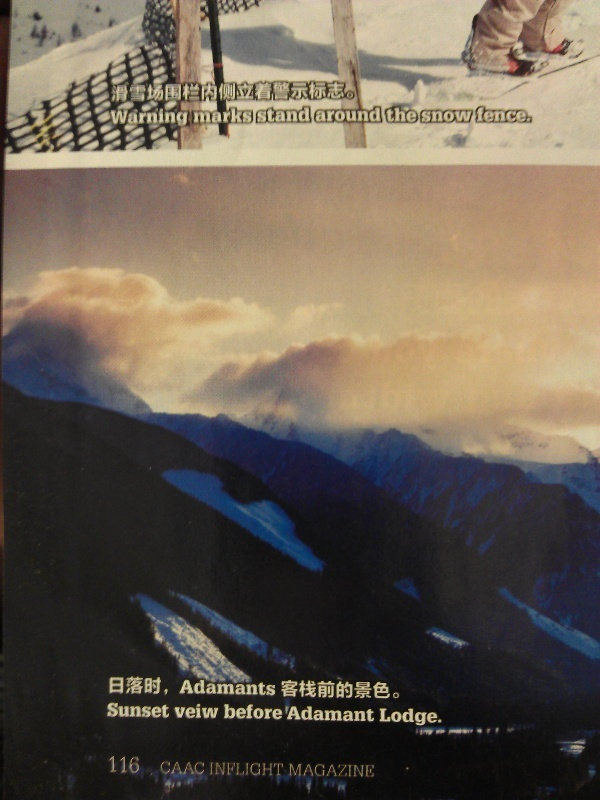text: (113, 78, 128, 106), (129, 78, 144, 106), (145, 78, 160, 106), (161, 78, 176, 106), (177, 78, 192, 106), (193, 78, 208, 106), (209, 78, 224, 106), (225, 78, 240, 106), (241, 78, 256, 106), (257, 78, 272, 106), (273, 78, 288, 106), (289, 78, 304, 106), (305, 78, 320, 106), (321, 78, 336, 106), (337, 78, 352, 106), (385, 676, 401, 700), (113, 676, 128, 700), (129, 676, 144, 700), (145, 676, 160, 700), (161, 676, 176, 700), (177, 676, 192, 700), (193, 676, 208, 700), (209, 676, 224, 700), (225, 676, 240, 700), (241, 676, 256, 700), (257, 676, 272, 700), (273, 676, 288, 700), (289, 676, 304, 700), (305, 676, 320, 700), (321, 676, 336, 700), (337, 676, 352, 700), (353, 676, 368, 700), (369, 676, 384, 700), (113, 754, 128, 776), (321, 105, 336, 126), (337, 105, 352, 126), (353, 105, 368, 126), (113, 108, 128, 128), (129, 108, 144, 128), (145, 108, 160, 128), (161, 108, 176, 128), (289, 704, 304, 724), (305, 704, 320, 724), (321, 704, 336, 724), (337, 704, 352, 724), (353, 704, 368, 724), (369, 105, 383, 126), (129, 754, 142, 776), (113, 701, 128, 720), (129, 701, 144, 720), (145, 701, 160, 720), (193, 107, 208, 126), (209, 107, 224, 126), (225, 107, 240, 126), (257, 106, 272, 125), (273, 106, 288, 125), (289, 106, 304, 125), (385, 106, 400, 125), (401, 106, 416, 125), (481, 106, 496, 125), (497, 106, 512, 125), (513, 106, 528, 125), (385, 707, 400, 726), (401, 707, 416, 726), (417, 707, 432, 726), (177, 108, 190, 128), (161, 760, 176, 777), (177, 760, 192, 777), (225, 703, 240, 720), (241, 703, 256, 720), (257, 703, 272, 720), (225, 761, 240, 778), (241, 761, 256, 778), (257, 761, 272, 778), (241, 107, 254, 126), (433, 108, 448, 124), (449, 108, 464, 124), (177, 703, 192, 719), (193, 703, 208, 719), (289, 762, 304, 778), (305, 762, 320, 778), (321, 762, 336, 778), (337, 762, 352, 778), (353, 762, 368, 778), (193, 760, 206, 777), (211, 761, 224, 778), (161, 701, 172, 720), (273, 761, 285, 778), (420, 108, 432, 124), (273, 703, 284, 720), (433, 707, 442, 726), (209, 703, 219, 719), (369, 704, 377, 724), (353, 78, 358, 106), (305, 106, 312, 125), (465, 108, 473, 124), (314, 105, 320, 126), (369, 762, 376, 778), (108, 676, 112, 700), (107, 701, 112, 720), (475, 106, 480, 125), (379, 707, 384, 726), (108, 754, 112, 776), (529, 106, 532, 125), (173, 703, 176, 719), (110, 108, 112, 128), (417, 106, 419, 125), (222, 703, 224, 720), (111, 78, 112, 106), (159, 760, 160, 777)
